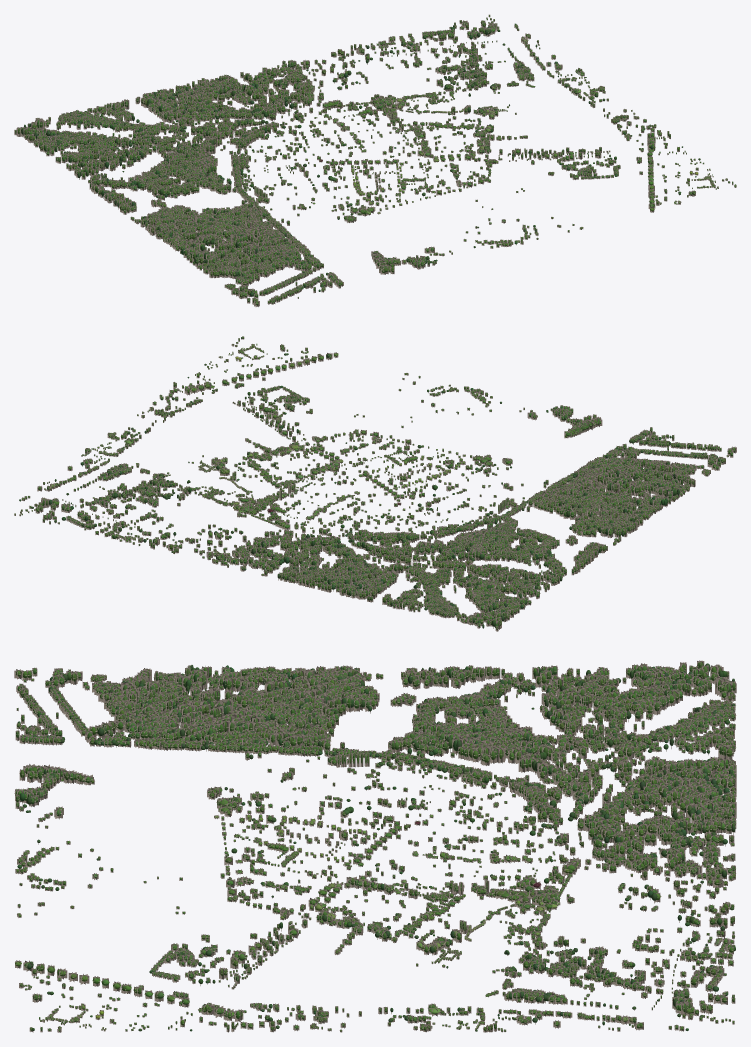
Rendered from trees.glb.
The picture shows the model from 3 angles, top to bottom: view 1: azimuth 30°, elevation 25°; view 2: azimuth 150°, elevation 25°; view 3: azimuth 270°, elevation 25°; orthographic projection. The views are drawn at different scales.
Parts seen in each view (by area): view 1: takken, bomen; view 2: takken, bomen; view 3: takken, bomen.
Part boxes in pixels (left/top/right/bottom): takken: left=14, top=14, right=736, bottom=306; bomen: left=15, top=15, right=736, bottom=305; takken: left=14, top=336, right=736, bottom=631; bomen: left=14, top=336, right=735, bottom=629; takken: left=14, top=660, right=736, bottom=1032; bomen: left=15, top=662, right=736, bottom=1032.
Size of the model in its own units: 1411 by 37.46 by 1212.
